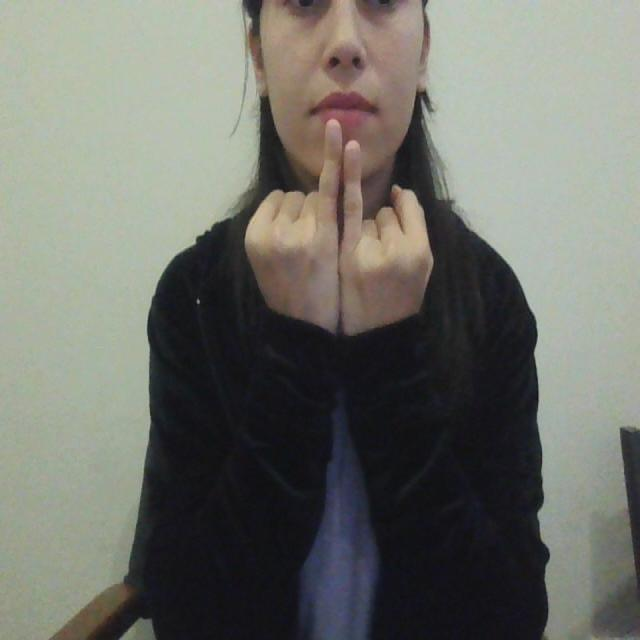Kardes: (241, 109, 436, 345)
